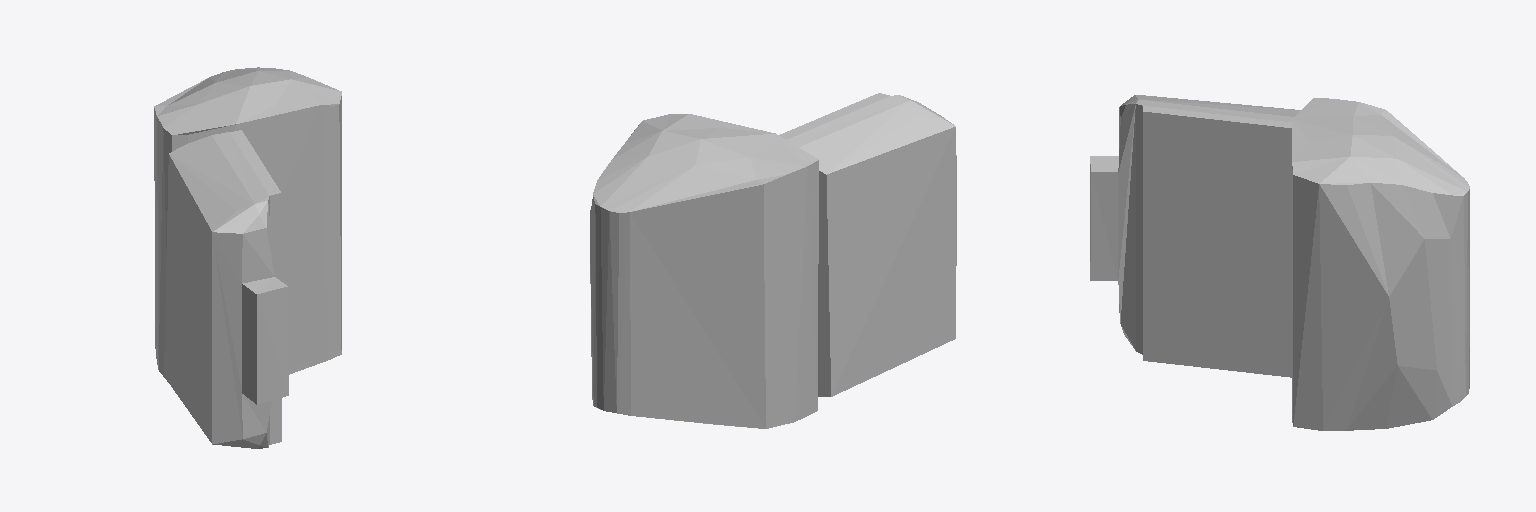
File: head_collision.obj
3 renders of one model, left to right at view 1: azimuth 30°, elevation 25°; view 2: azimuth 150°, elevation 25°; view 3: azimuth 270°, elevation 25°, orthographic.
Bounding box in the file's own units: 0.1943 × 0.2178 × 0.2761.